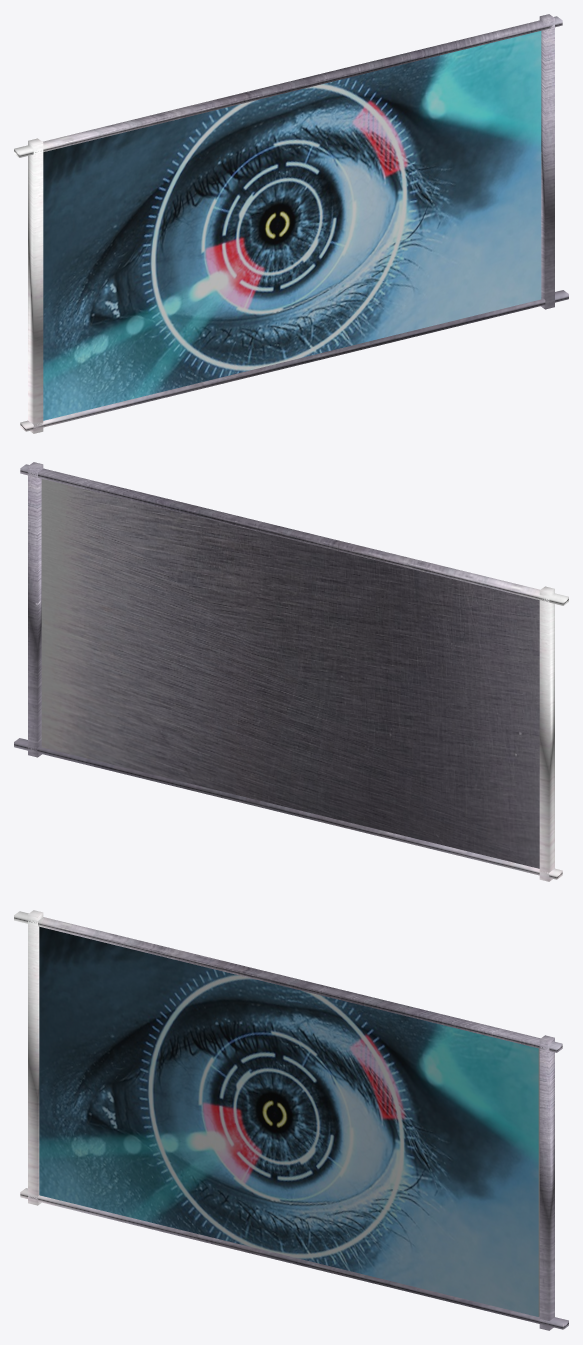
The model's file is cuadre1.fbx.
3 views of the same model, one above another, from view 1: azimuth 30°, elevation 25°; view 2: azimuth 150°, elevation 25°; view 3: azimuth 330°, elevation 25° (orthographic).
Visible parts, largest first — view 1: Cube_004, Cube_001; view 2: Cube_004, Cube_001; view 3: Cube_004, Cube_001.
Boxes of the visible parts, x1,y1,x2,y2 form: Cube_004: [43, 31, 541, 420]; Cube_001: [14, 14, 568, 433]; Cube_004: [41, 479, 539, 868]; Cube_001: [14, 462, 568, 881]; Cube_004: [39, 926, 539, 1316]; Cube_001: [14, 910, 568, 1330].
Size of the model in its own units: 1.96 by 0.9889 by 0.0349.
